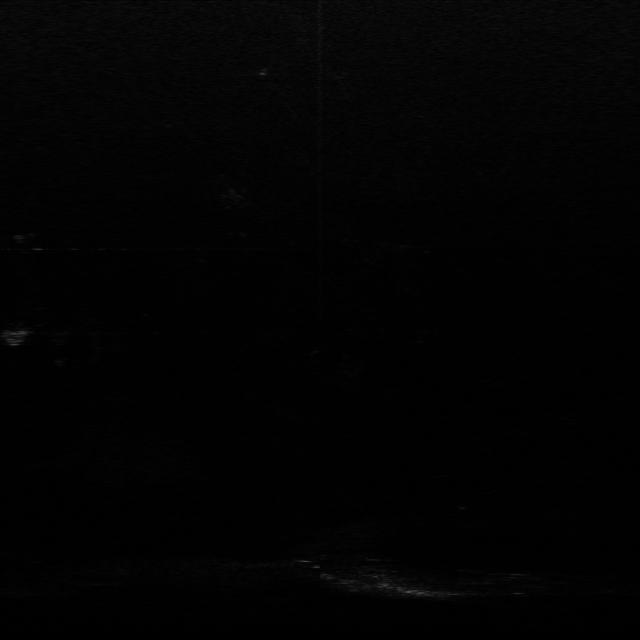rov: (1, 327, 34, 348)
